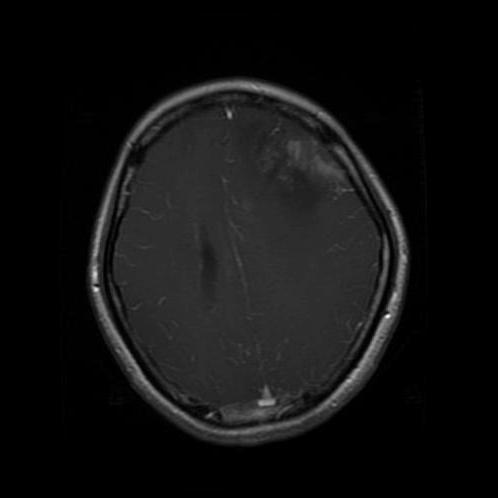Tumour-Glioma: (257, 123, 351, 220)
